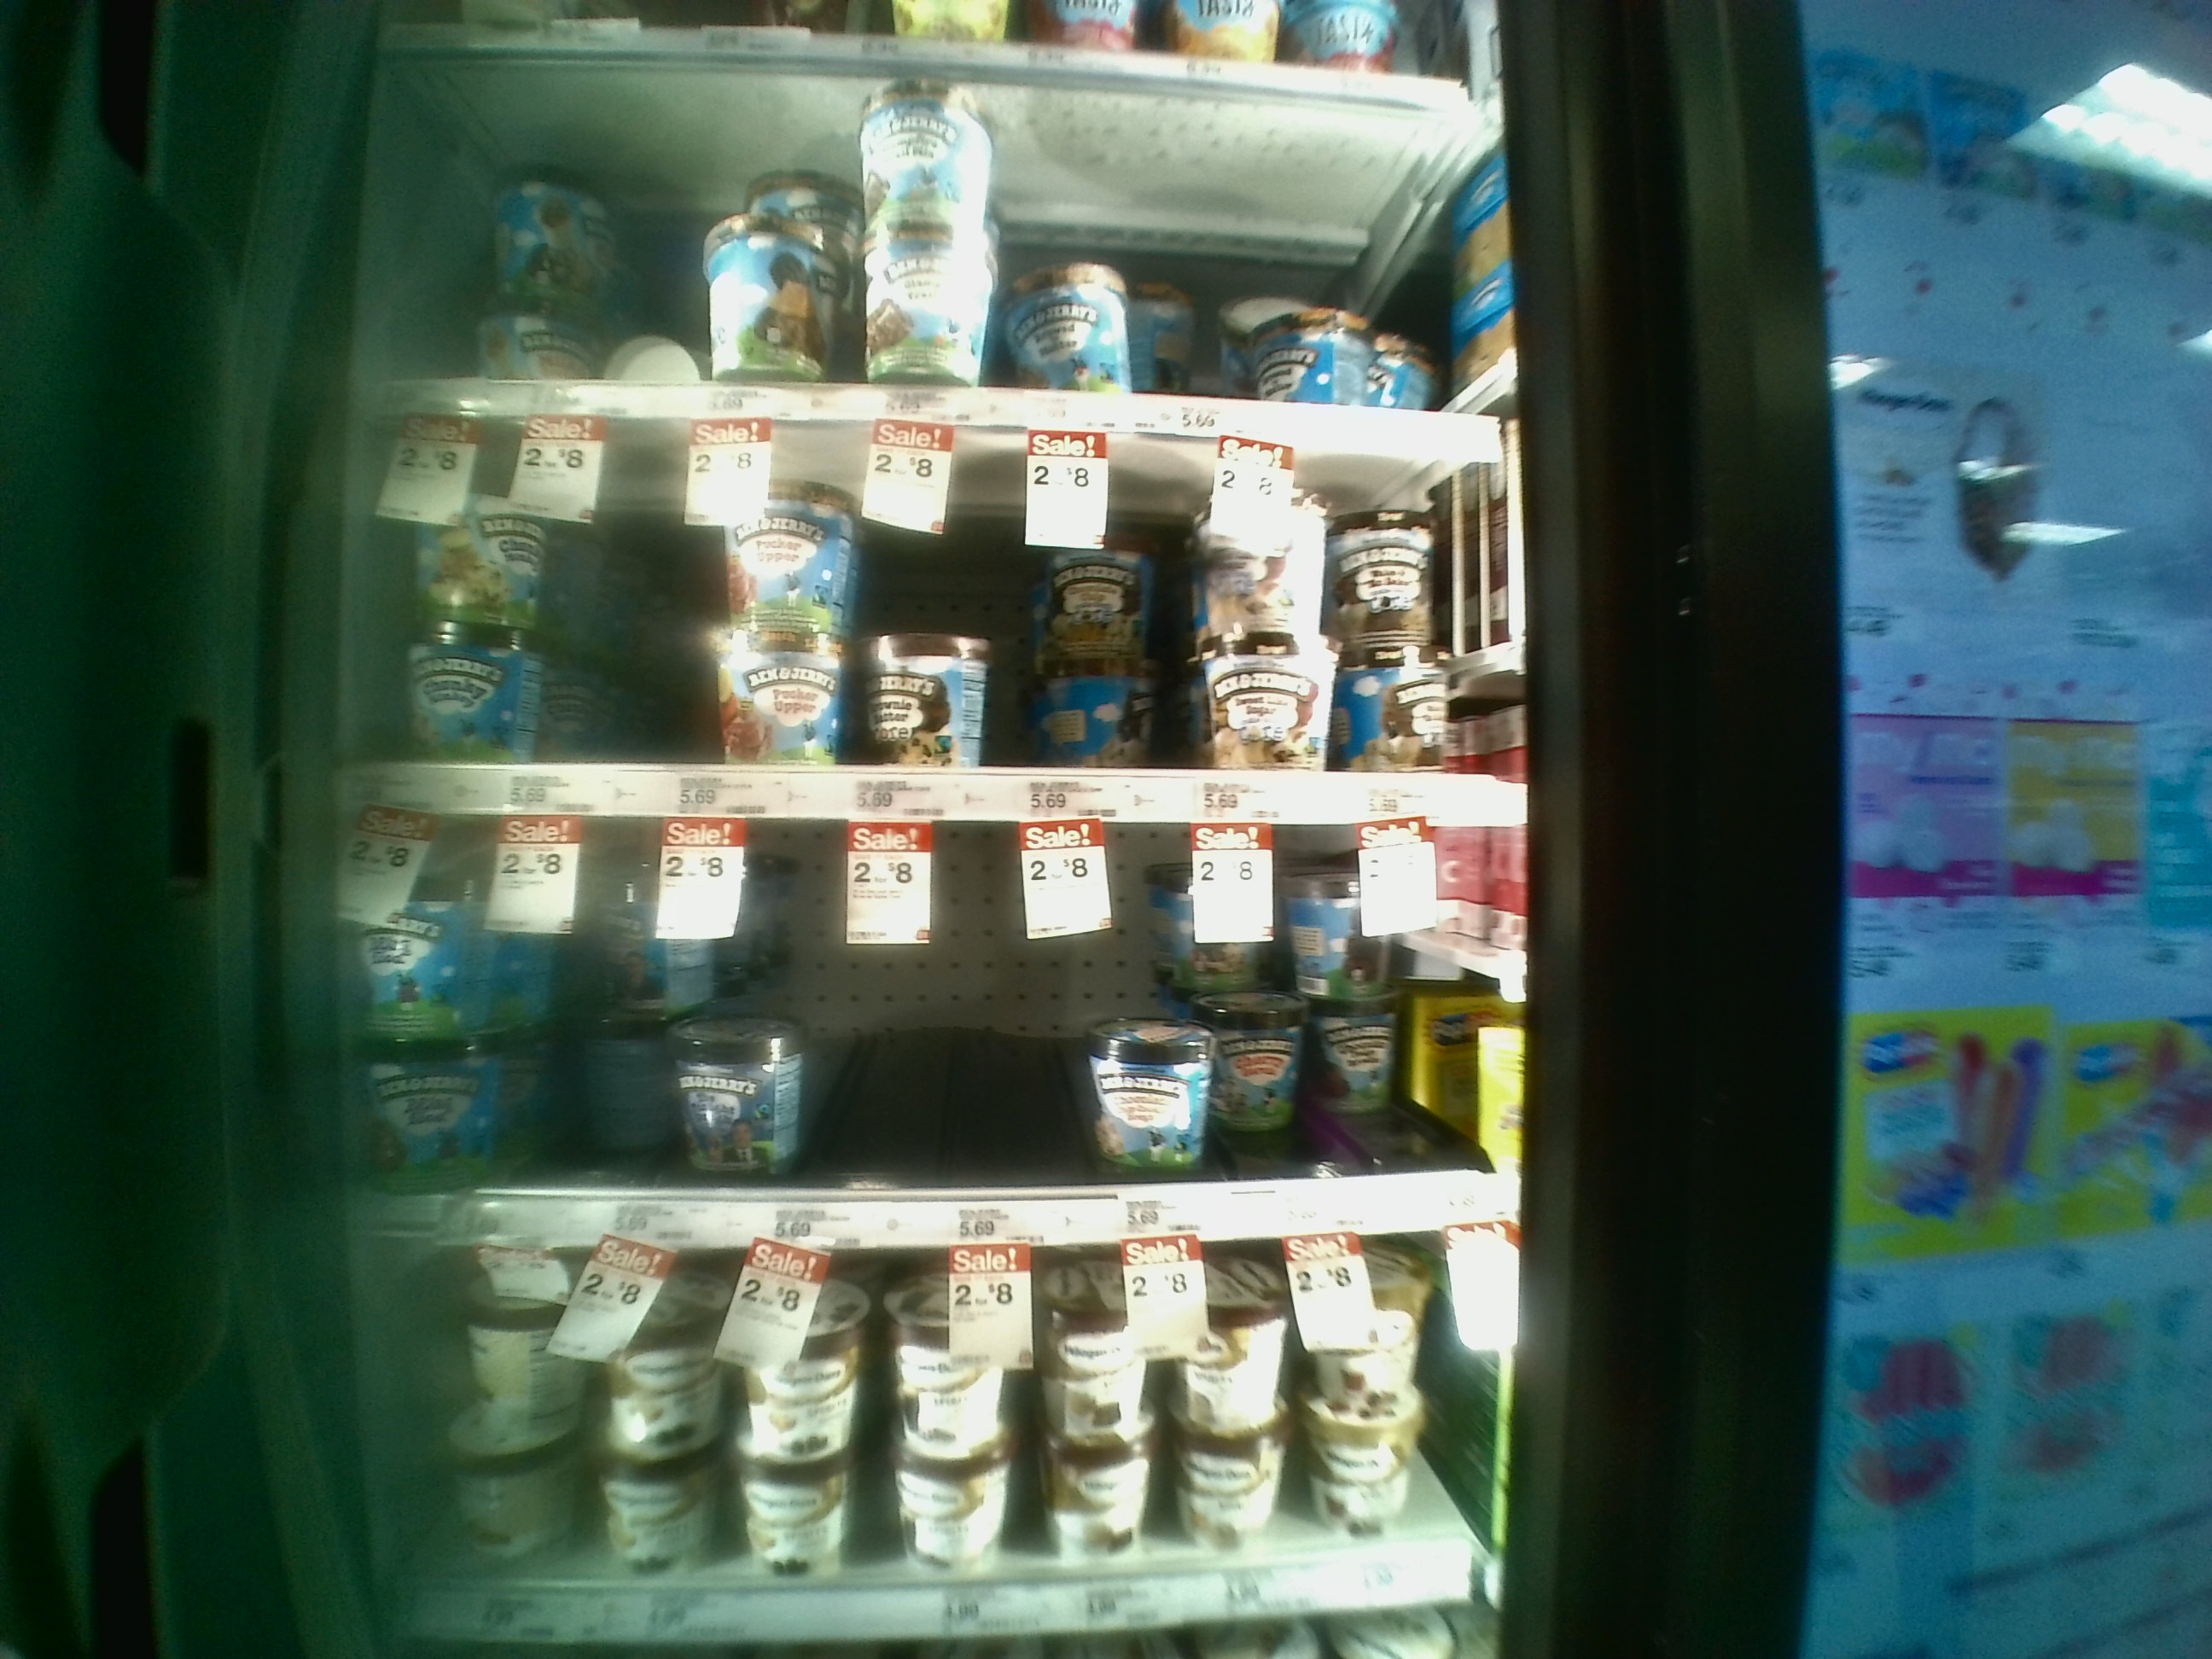shelf: (354, 819, 1529, 1246), (348, 413, 1536, 819), (348, 1251, 1514, 1645), (364, 44, 1531, 422)
